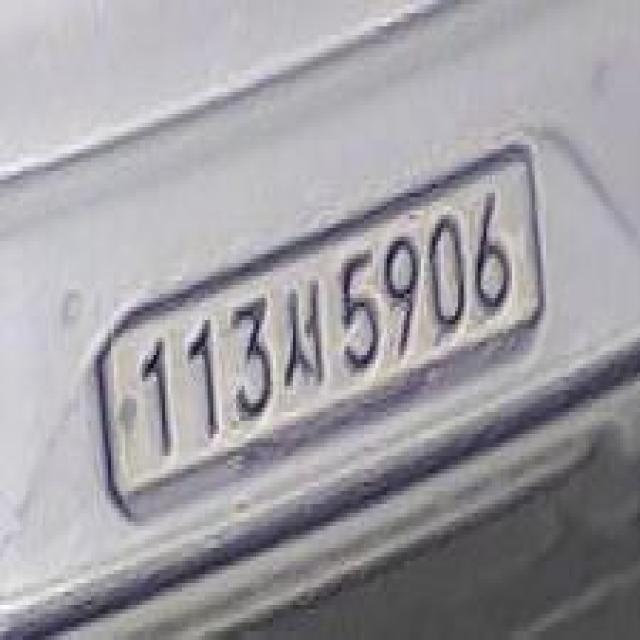illegal_plate: (92, 151, 548, 518)
